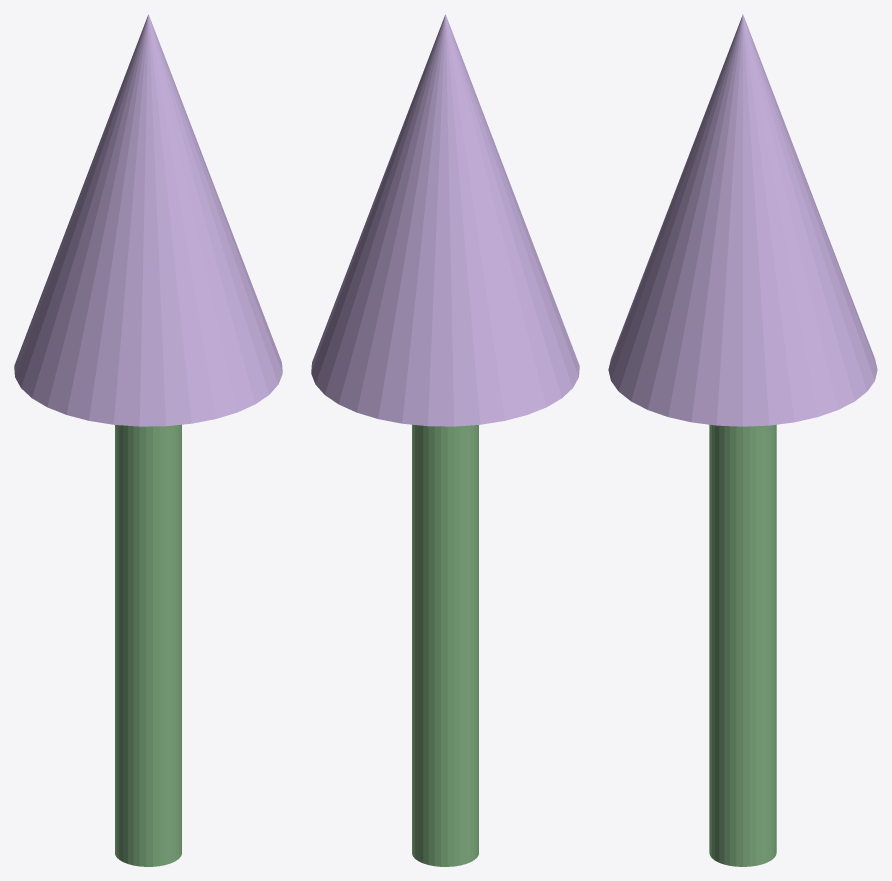
File: lavender.glb
3 renders of one model, left to right at view 1: azimuth 30°, elevation 25°; view 2: azimuth 150°, elevation 25°; view 3: azimuth 270°, elevation 25°, orthographic.
Parts seen in each view (by area): view 1: Cone, Cylinder; view 2: Cone, Cylinder; view 3: Cone, Cylinder.
Boxes of the visible parts, bbox=[...] form: Cone: bbox=[14, 14, 282, 426]; Cylinder: bbox=[115, 424, 181, 866]; Cone: bbox=[311, 14, 579, 426]; Cylinder: bbox=[412, 424, 478, 866]; Cone: bbox=[608, 14, 877, 426]; Cylinder: bbox=[709, 424, 776, 866].
Bounding box in the file's own units: 0.24 × 0.825 × 0.24.
